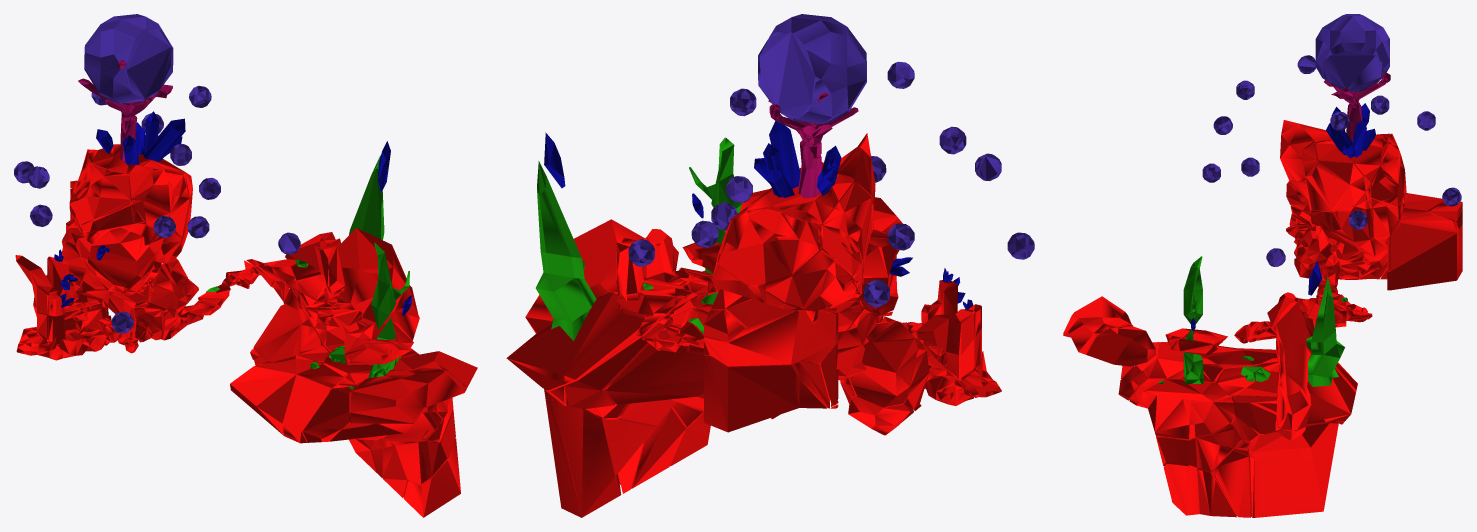
File: Full Tutorial Level3.fbx
3 renders of one model, left to right at view 1: azimuth 30°, elevation 25°; view 2: azimuth 150°, elevation 25°; view 3: azimuth 270°, elevation 25°, orthographic. The views are drawn at different scales.
Visible parts, largest first — view 1: start, end, floating_balls, pillars, Crystals_1, tree; view 2: end, start, floating_balls, pillars, Crystals_1, tree; view 3: start, end, floating_balls, pillars, Crystals_1, tree, rocks.
Part boxes in pixels (x1,y1,x2,y2): start: (194,228,477,517); end: (15,144,204,360); floating_balls: (14,14,300,333); pillars: (349,155,409,378); Crystals_1: (54,111,411,315); tree: (78,60,172,161); end: (704,133,1001,435); start: (506,189,902,517); floating_balls: (628,14,1034,307); pillars: (535,137,741,340); Crystals_1: (544,121,973,309); tree: (768,93,858,198); start: (1063,292,1372,517); end: (1280,120,1462,294); floating_balls: (1202,14,1461,266); pillars: (1183,256,1344,386); Crystals_1: (1191,103,1375,330); tree: (1324,72,1390,142); rocks: (1158,297,1347,383).
Bounding box in the file's own units: 17205 × 19718 × 17634.
